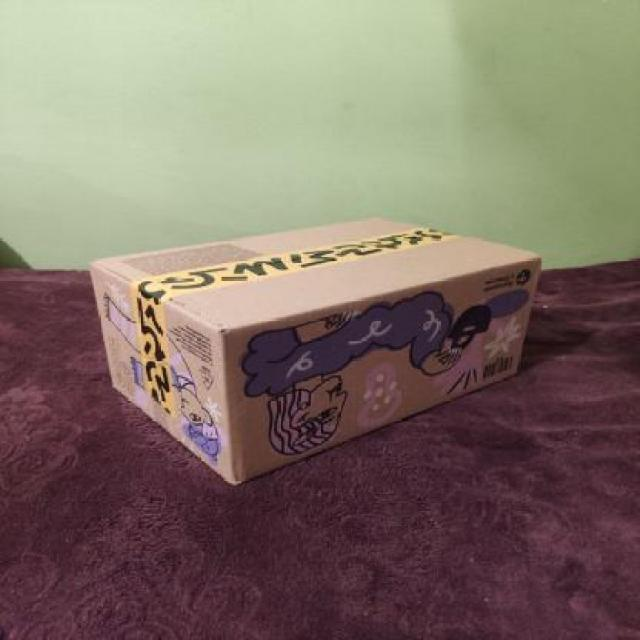box: (89, 208, 545, 486)
